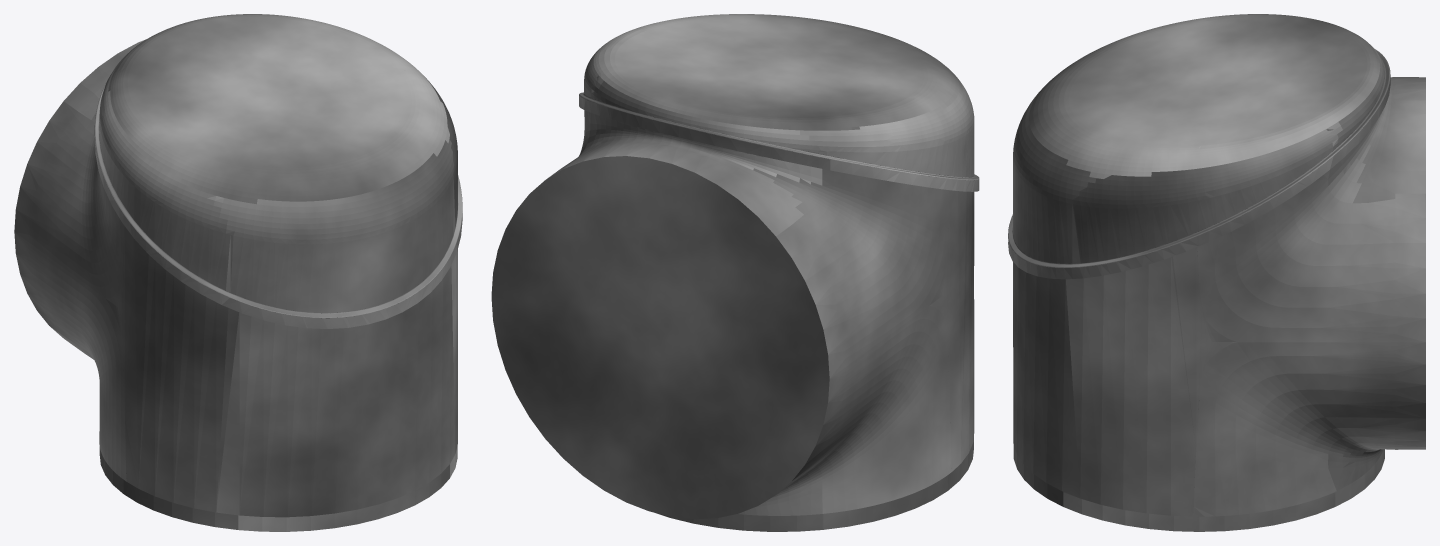
File: shoulder.dae
The picture shows the model from 3 angles, left to right: view 1: azimuth 30°, elevation 25°; view 2: azimuth 150°, elevation 25°; view 3: azimuth 270°, elevation 25°; orthographic projection. The views are drawn at different scales.
Parts seen in each view (by area): view 1: shoulder; view 2: shoulder; view 3: shoulder.
Part boxes in pixels (bbox=[...]): shoulder: bbox=[14, 14, 462, 531]; shoulder: bbox=[491, 14, 979, 531]; shoulder: bbox=[1008, 14, 1425, 531].
Size of the model in its own units: 0.119 by 0.13 by 0.1337.
